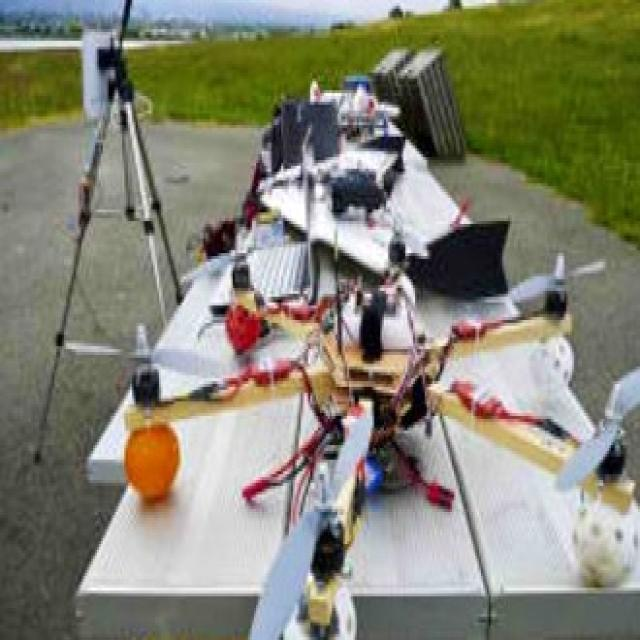drone: (72, 251, 640, 628)
